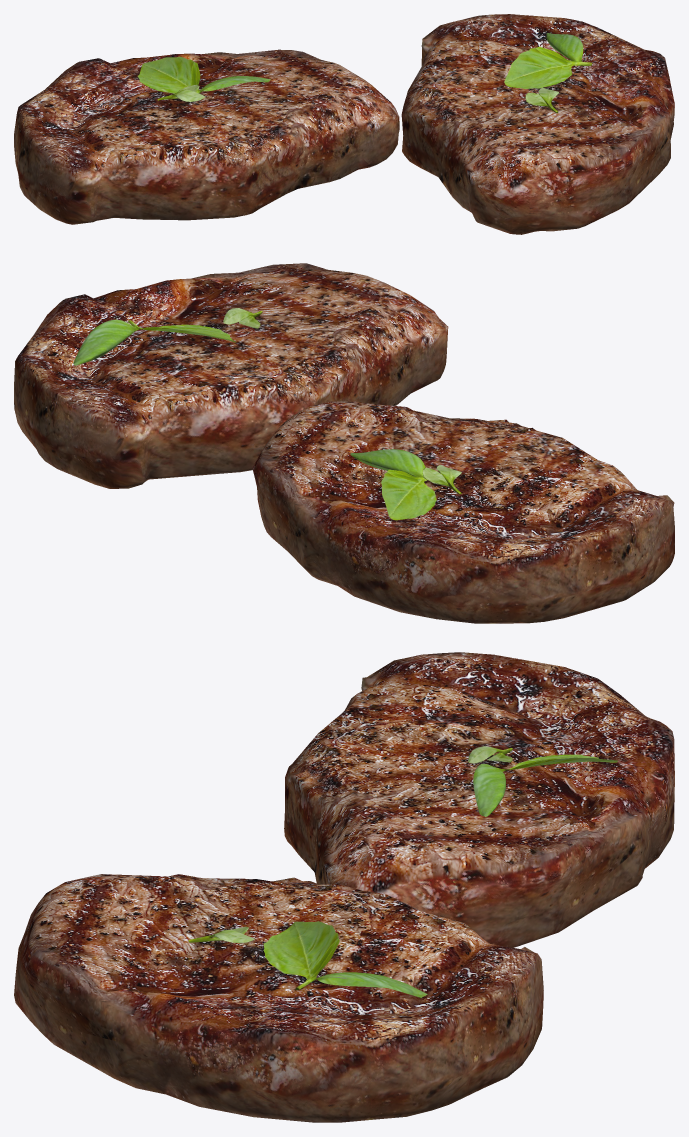
Rendered from Steak_Reduce.fbx.
3 views of the same model, one above another, from view 1: azimuth 30°, elevation 25°; view 2: azimuth 150°, elevation 25°; view 3: azimuth 270°, elevation 25° (orthographic). The views are drawn at different scales.
Parts seen in each view (by area): view 1: Obj3d66-374015-3-564, Obj3d66-374015-8-191, Obj3d66-374015-9-717; view 2: Obj3d66-374015-3-564, Obj3d66-374015-8-191, Obj3d66-374015-9-717; view 3: Obj3d66-374015-8-191, Obj3d66-374015-3-564, Obj3d66-374015-9-717.
Boxes of the visible parts, box(x1,y1,x2,y2) form: Obj3d66-374015-3-564: box(14, 49, 399, 224); Obj3d66-374015-8-191: box(401, 14, 674, 234); Obj3d66-374015-9-717: box(137, 33, 592, 113); Obj3d66-374015-3-564: box(252, 401, 674, 623); Obj3d66-374015-8-191: box(14, 263, 448, 488); Obj3d66-374015-9-717: box(73, 308, 461, 520); Obj3d66-374015-8-191: box(14, 874, 543, 1122); Obj3d66-374015-3-564: box(284, 652, 674, 947); Obj3d66-374015-9-717: box(188, 746, 617, 997).
Bounding box in the file's own units: 28.32 × 3.87 × 20.2.
